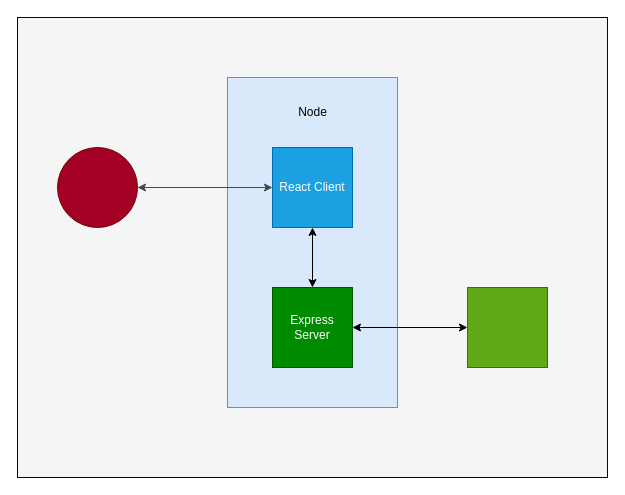
Some shapes in this 625 by 495 pixel diagram are drawn without their labels. The box of each missing label's shape, as (x1, y1, x2, y2) in pixels:
Browser: (56, 146, 138, 228)
MongoDB: (466, 286, 548, 368)
